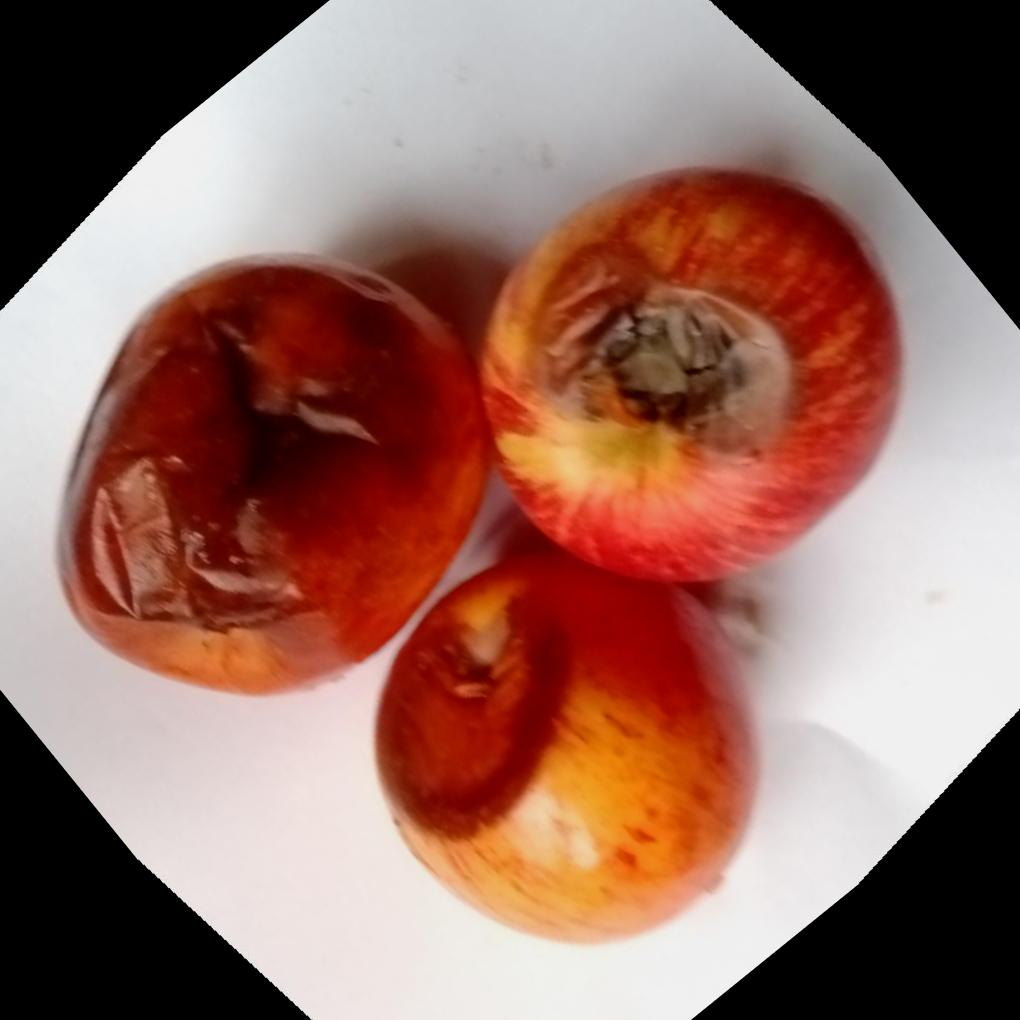FreshOrange: (58, 167, 901, 937)
